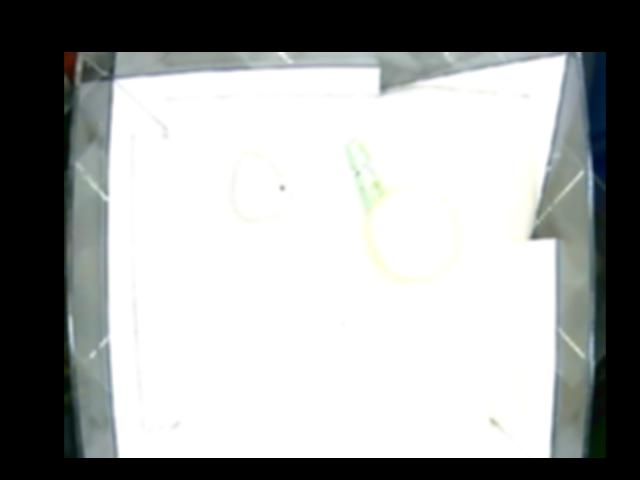Battery: (343, 139, 381, 211)
Mooli: (361, 183, 458, 285)
Pebble: (230, 146, 291, 223)
